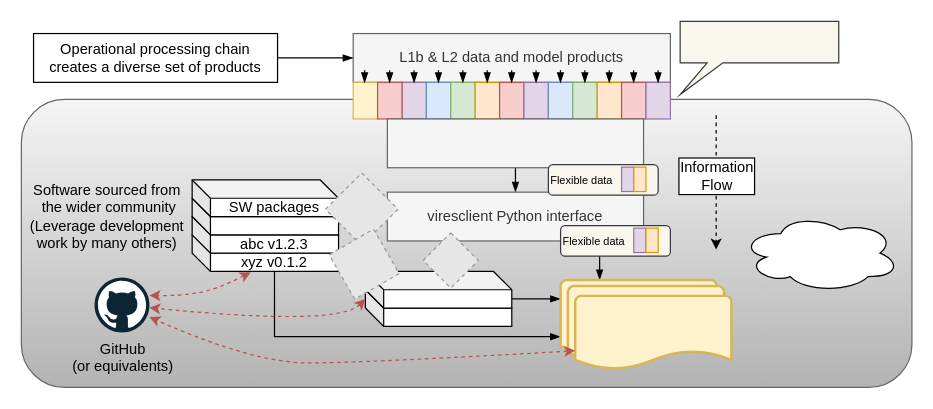
Image size: 933x409. Some labels were removed from this diagram. Grey dashed boxes stand in for pictures. The shapes that lost their labels are listed below. From the top down, each one's centre as x and y in pixels, then its label:
(759,57): Specific formats/structure
(515,143): VirES Server Consistent interface to products
(820,252): VRE service
(438,289): Swarm packages
(652,332): Jupyter Notebooks
